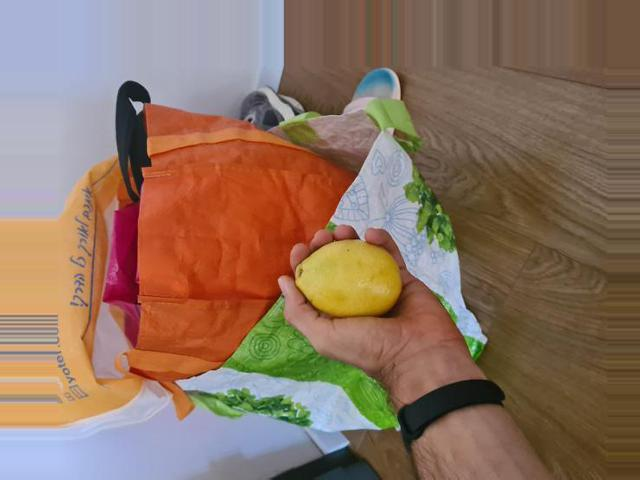lemon: (294, 240, 405, 319)
